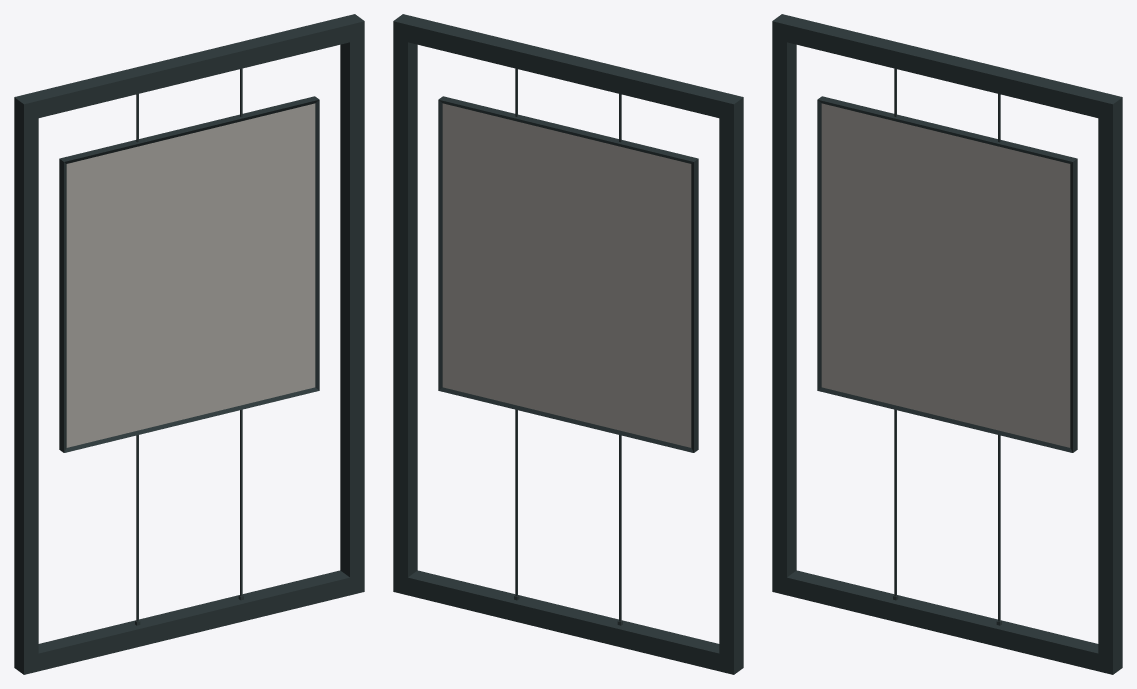
The model's file is sign2.glb.
3 views of the same model, side by side, from view 1: azimuth 30°, elevation 25°; view 2: azimuth 150°, elevation 25°; view 3: azimuth 330°, elevation 25° (orthographic).
Parts seen in each view (by area): view 1: ExhibitPanel2; view 2: ExhibitPanel2; view 3: ExhibitPanel2.
Boxes of the visible parts, x1,y1,x2,y2 form: ExhibitPanel2: (14, 14, 364, 674); ExhibitPanel2: (393, 14, 743, 674); ExhibitPanel2: (772, 14, 1122, 674).
Size of the model in its own units: 1 by 1.6 by 0.05.
1 material, 1 textured.
